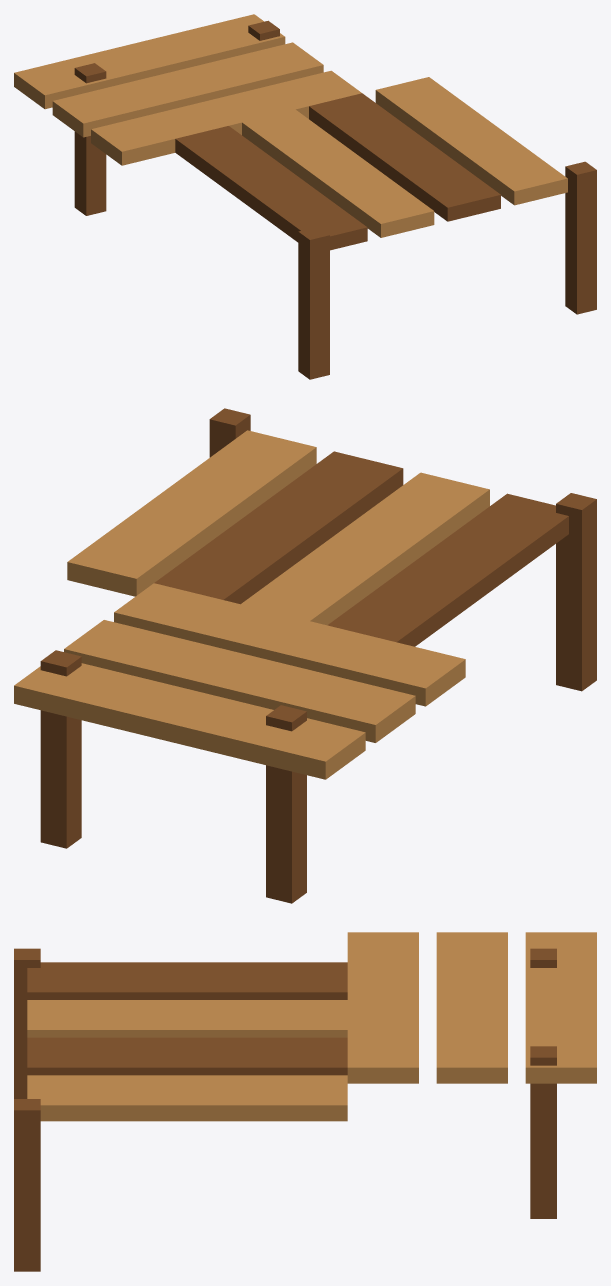
File: dock_corner.glb
The picture shows the model from 3 angles, top to bottom: view 1: azimuth 30°, elevation 25°; view 2: azimuth 150°, elevation 25°; view 3: azimuth 270°, elevation 25°; orthographic projection. The views are drawn at different scales.
Parts seen in each view (by area): view 1: dock_corner; view 2: dock_corner; view 3: dock_corner.
Boxes of the visible parts, x1,y1,x2,y2 form: dock_corner: (14,14,596,379); dock_corner: (14,408,596,903); dock_corner: (14,932,596,1271).
Bounding box in the file's own units: 2.48 × 1 × 3.27.
